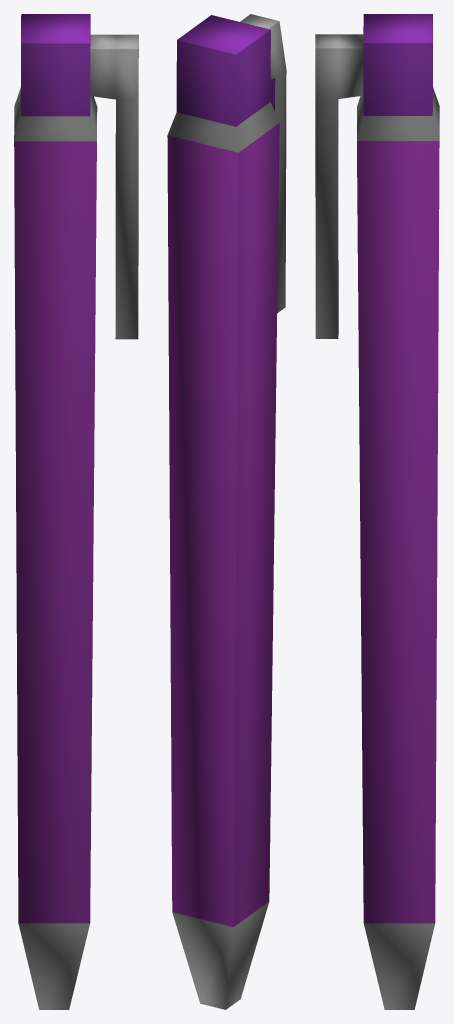
Rendered from Pen1.fbx.
3 renders of one model, left to right at view 1: azimuth 90°, elevation 25°; view 2: azimuth 150°, elevation 25°; view 3: azimuth 270°, elevation 25°, orthographic.
Visible parts, largest first — view 1: Circle.004; view 2: Circle.004; view 3: Circle.004.
Part boxes in pixels (x1,y1,x2,y2): Circle.004: (14, 14, 138, 1009); Circle.004: (167, 14, 286, 1009); Circle.004: (315, 14, 439, 1009).
Size of the model in its own units: 2.62 by 33.98 by 3.93.
